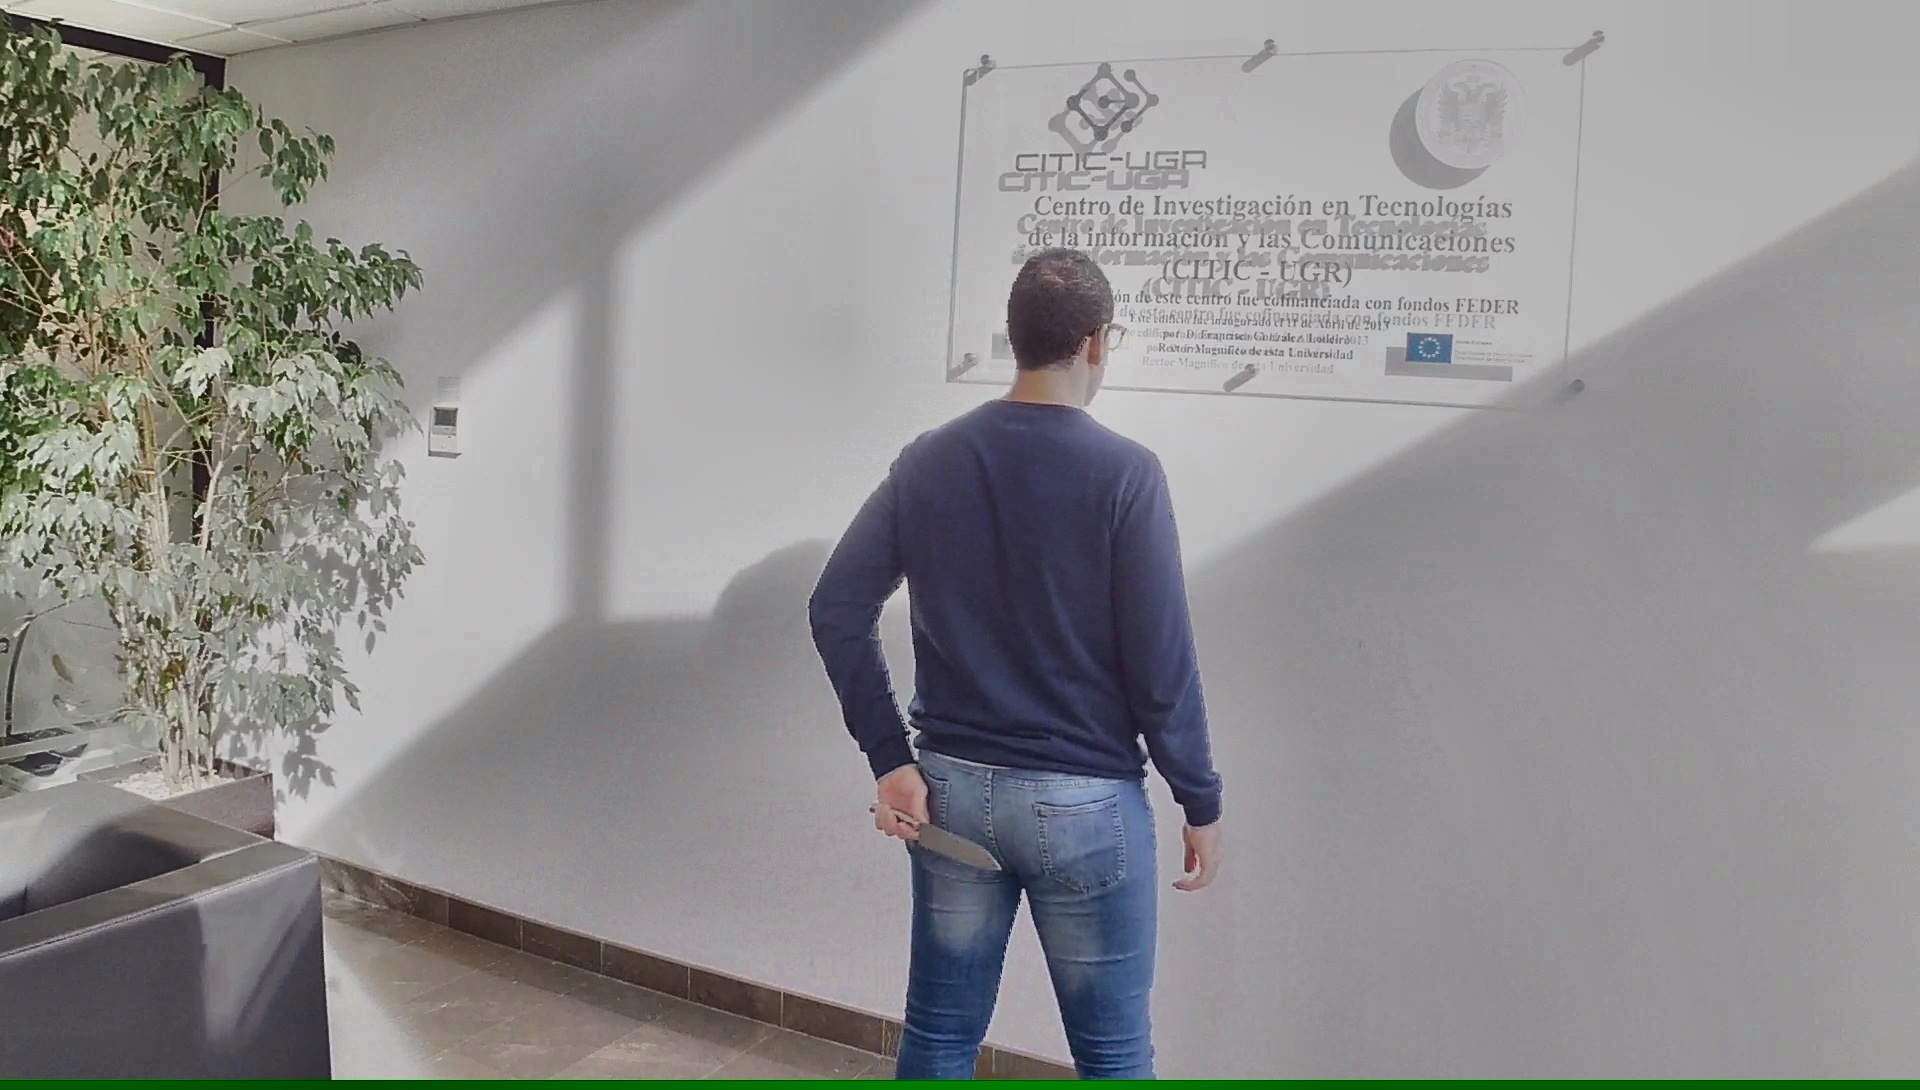knife: (860, 791, 1011, 882)
